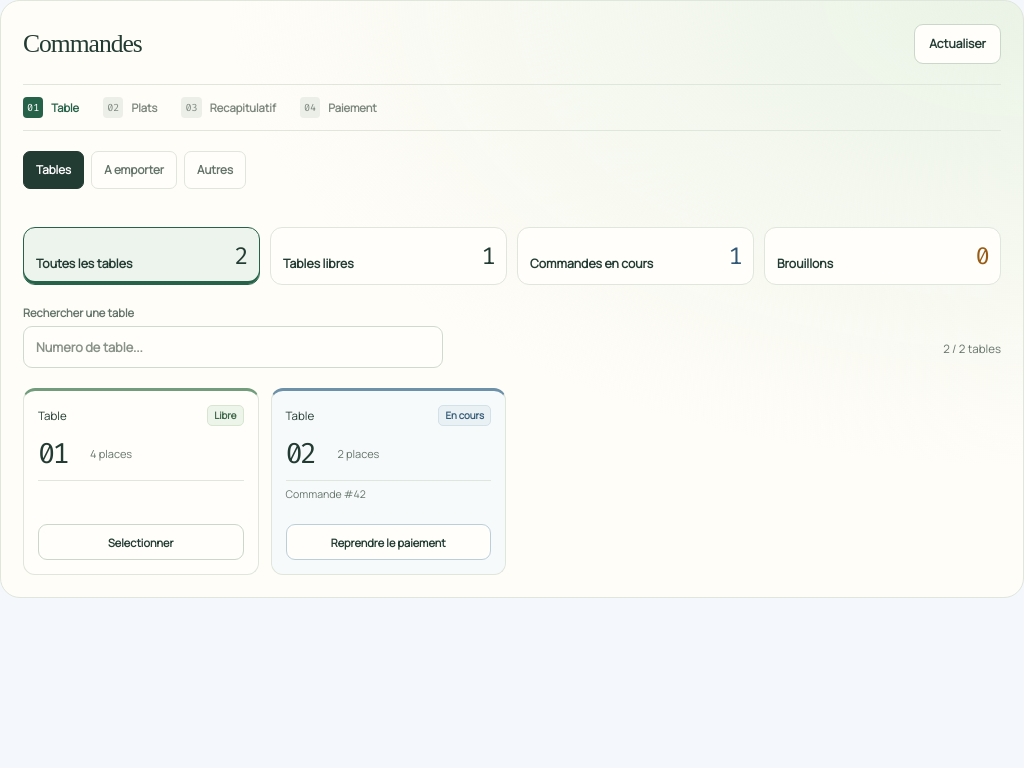
uses table numbers without legacy zones or instructional stock copy
This screenshot has width=1024, height=768.
Expected: the button with aria-label "Selectionner la table 1" is shown, 38,524 -> 244,560
In the search field labelled "Rechercher une table": (233, 347) 23,326 -> 443,368, type "2"
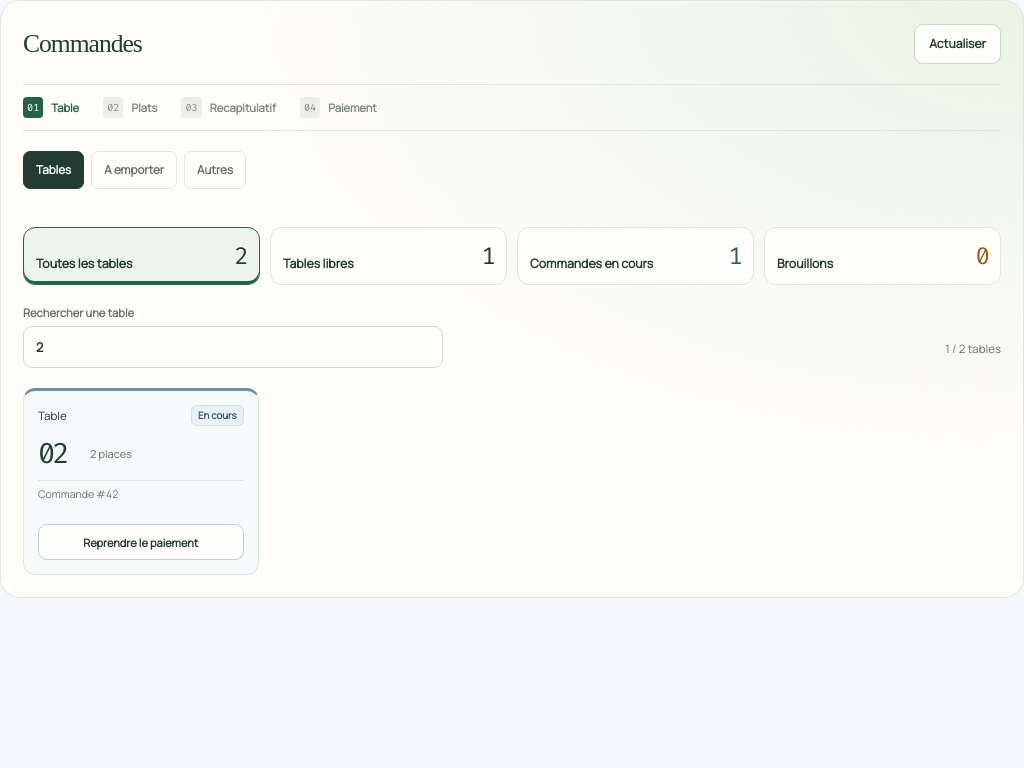
Expected: the button with aria-label "Selectionner la table 2" is shown, 38,524 -> 244,560
Clear the search field labelled "Rechercher une table": (233, 347) 23,326 -> 443,368
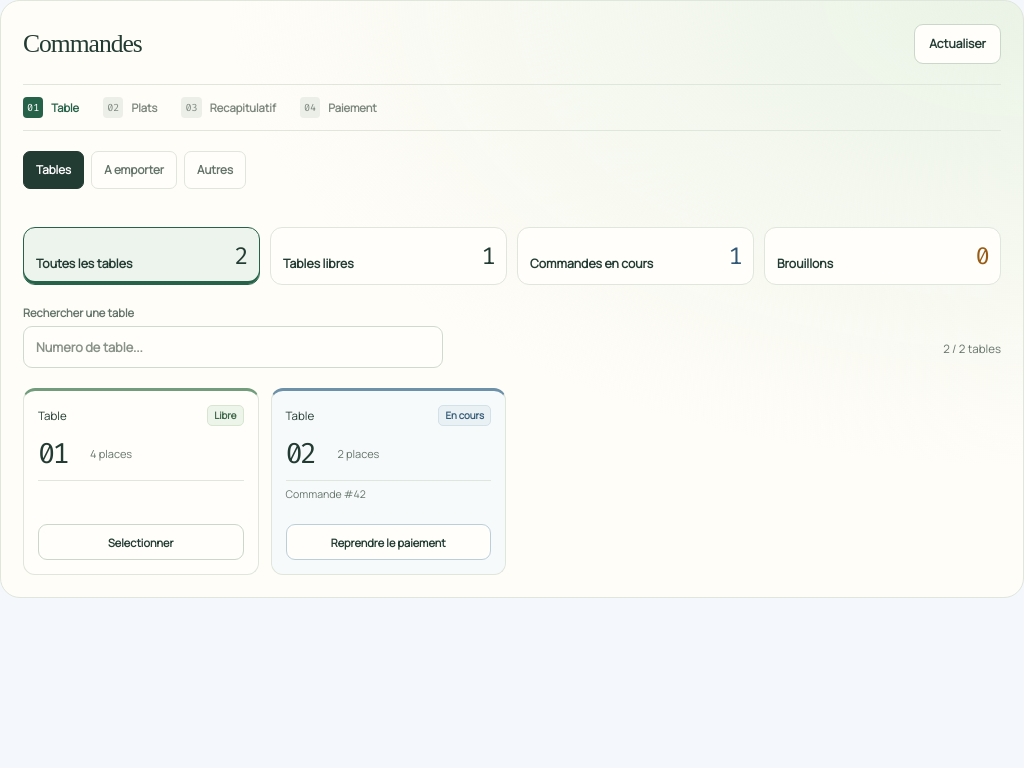
Click the button with aria-label "Selectionner la table 1": (141, 542) 38,524 -> 244,560
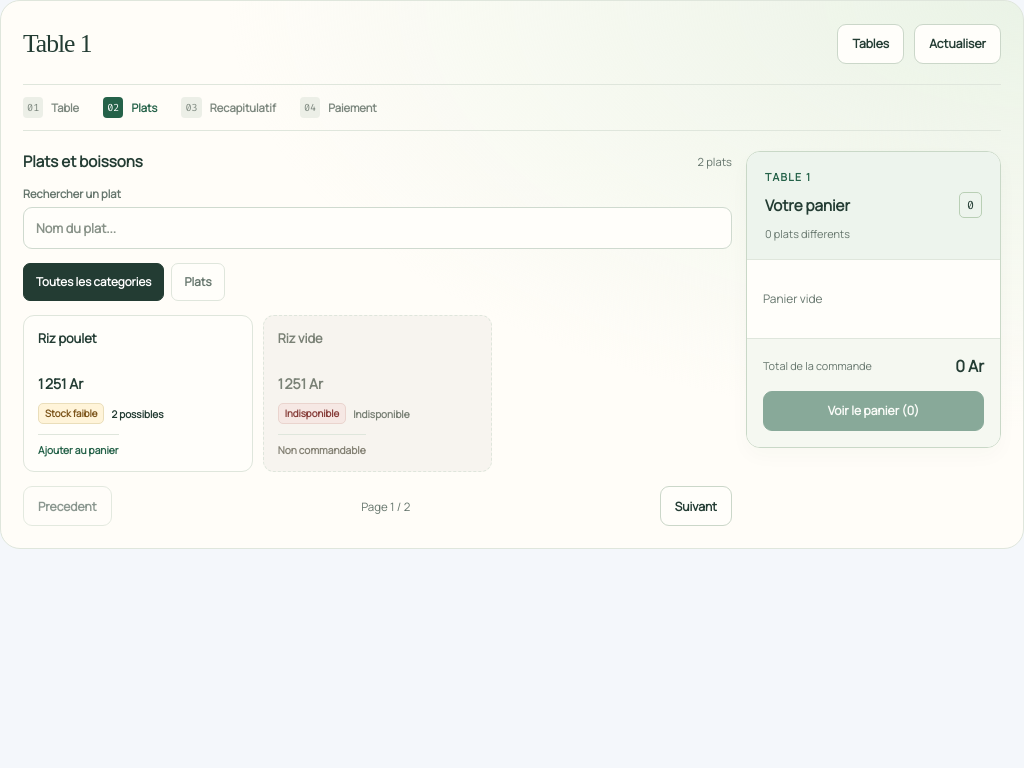
Click the button with aria-label "Ajouter Riz poulet": (138, 394) 23,315 -> 253,472
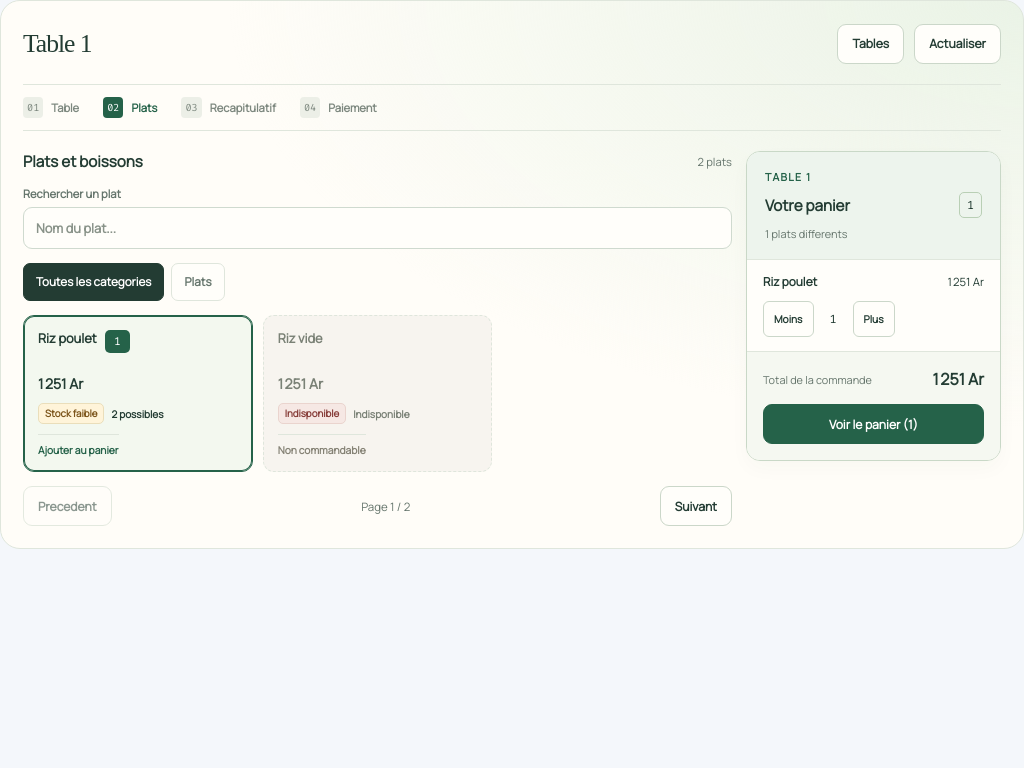
Click the button "Voir le panier (1)": (874, 424) 763,404 -> 984,444
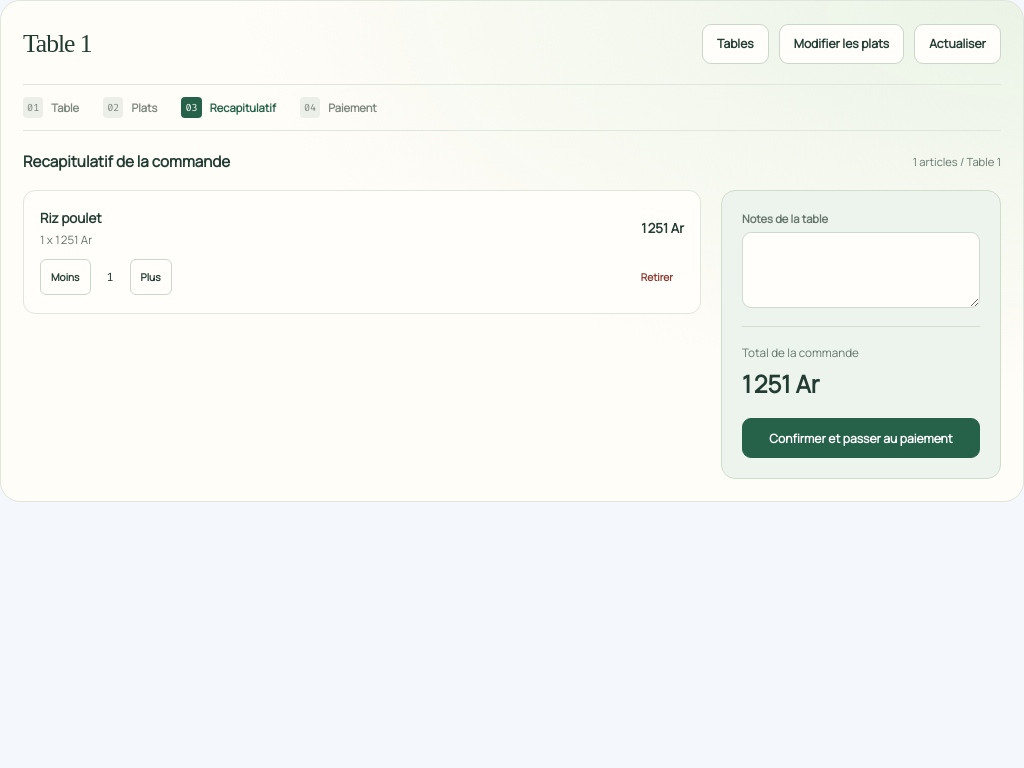
Expected: the text named "Total du brouillon" shows "1", 742,367 -> 819,400
Expected: the button "Confirmer et passer au paiement" is enabled, 742,418 -> 980,458
